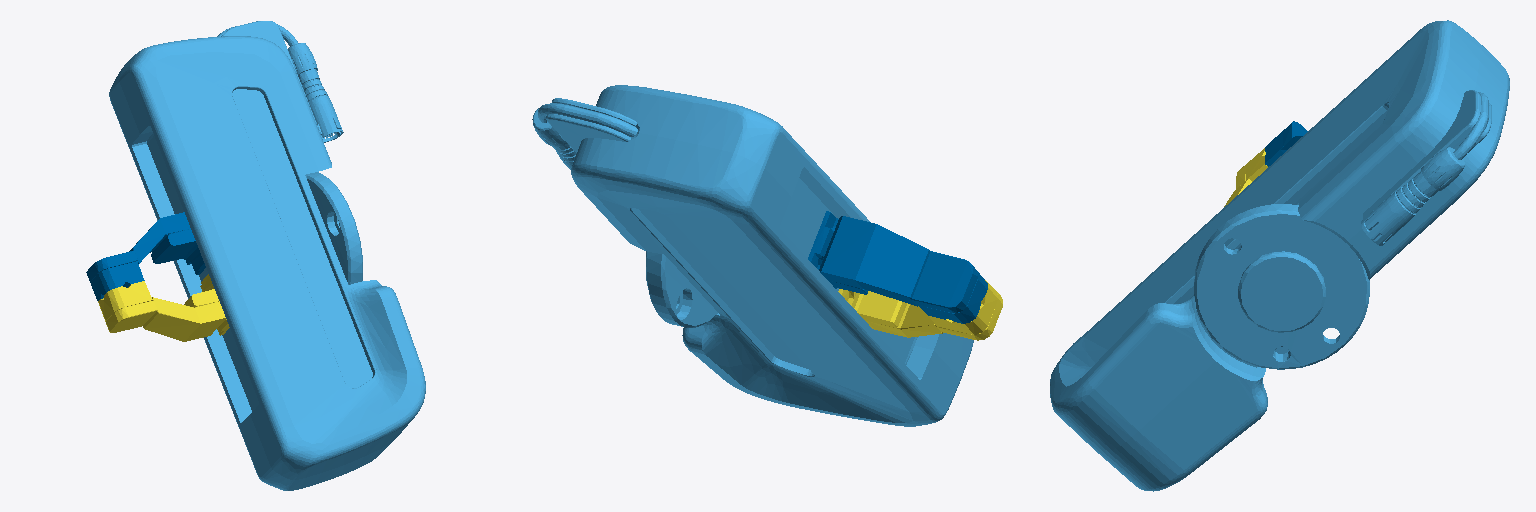
robot.urdf — panda:
<?xml version="1.0" ?>
<!-- =================================================================================== -->
<!-- |    This document was autogenerated by xacro from panda_arm.urdf.xacro           | -->
<!-- |    EDITING THIS FILE BY HAND IS NOT RECOMMENDED                                 | -->
<!-- =================================================================================== -->
<robot name="panda">
  <link name="panda_link0">
    <visual>
      <geometry>
        <mesh filename="package://mujoco_panda/meshes/visual/link0.stl"/>
      </geometry>
    </visual>
    <collision>
      <origin rpy="0 1.5707963267948966 0" xyz="-0.075 0 0.06"/>
      <geometry>
        <cylinder length="0.03" radius="0.09"/>
      </geometry>
    </collision>
    <collision>
      <origin rpy="0 0 0" xyz="-0.06 0 0.06"/>
      <geometry>
        <sphere radius="0.09"/>
      </geometry>
    </collision>
    <collision>
      <origin rpy="0 0 0" xyz="-0.09 0 0.06"/>
      <geometry>
        <sphere radius="0.09"/>
      </geometry>
    </collision>
    <inertial>
      <!-- Estimated guesses from CAD -->
      <origin rpy="0 0 0" xyz="-0.041018 -0.00014 0.049974"/>
      <mass value="0.629769"/>
      <inertia ixx="0.00315" ixy="8.2904E-07" ixz="0.00015" iyy="0.00388" iyz="8.2299E-06" izz="0.004285"/>
  </inertial>
  </link>
  <link name="panda_link1">
    <visual>
      <geometry>
        <mesh filename="package://mujoco_panda/meshes/visual/link1.stl"/>
      </geometry>
    </visual>
    <collision>
      <origin rpy="0 0 0" xyz="0 0 -0.1915"/>
      <geometry>
        <cylinder length="0.2830" radius="0.09"/>
      </geometry>
    </collision>
    <collision>
      <origin rpy="0 0 0" xyz="0 0 -0.333"/>
      <geometry>
        <sphere radius="0.09"/>
      </geometry>
    </collision>
    <collision>
      <origin rpy="0 0 0" xyz="0 0 -0.05"/>
      <geometry>
        <sphere radius="0.09"/>
      </geometry>
    </collision>
    <inertial>
      <origin rpy="0 0 0" xyz="0.003875 0.002081 -0.04762"/>
      <mass value="4.970684"/>
      <inertia ixx="0.70337" ixy="-0.00013900" ixz="0.0067720" iyy="0.70661" iyz="0.019169" izz="0.0091170"/>
  </inertial>
  </link>
  <joint name="panda_joint1" type="revolute">
    <origin rpy="0 0 0" xyz="0 0 0.333"/>
    <parent link="panda_link0"/>
    <child link="panda_link1"/>
    <axis xyz="0 0 1"/>
    <limit effort="87" lower="-2.8973" upper="2.8973" velocity="2.1750"/>
    <dynamics damping="5.0" friction="1.0" />
  </joint>
  <link name="panda_link2">
    <visual>
      <geometry>
        <mesh filename="package://mujoco_panda/meshes/visual/link2.stl"/>
      </geometry>
    </visual>
    <collision>
      <origin rpy="0 0 0" xyz="0 0 0"/>
      <geometry>
        <cylinder length="0.12" radius="0.09"/>
      </geometry>
    </collision>
    <collision>
      <origin rpy="0 0 0" xyz="0 0 -0.06"/>
      <geometry>
        <sphere radius="0.09"/>
      </geometry>
    </collision>
    <collision>
      <origin rpy="0 0 0" xyz="0 0 0.06"/>
      <geometry>
        <sphere radius="0.09"/>
      </geometry>
    </collision>
    <inertial>
      <origin rpy="0 0 0" xyz=" -0.003141 -0.02872  0.003495"/>
      <mass value="0.646926"/>
      <inertia ixx="0.0079620" ixy="-3.9250e-3" ixz="1.0254e-02" iyy="2.8110e-02" iyz="7.0400e-04" izz="2.5995e-02"/>
  </inertial>
  </link>
  <joint name="panda_joint2" type="revolute">
    <origin rpy="-1.5707963267948966 0 0" xyz="0 0 0"/>
    <parent link="panda_link1"/>
    <child link="panda_link2"/>
    <axis xyz="0 0 1"/>
    <limit effort="87" lower="-1.7628" upper="1.7628" velocity="2.1750"/>
    <dynamics damping="5.0" friction="1.0" />
  </joint>
  <link name="panda_link3">
    <visual>
      <geometry>
        <mesh filename="package://mujoco_panda/meshes/visual/link3.stl"/>
      </geometry>
    </visual>
    <collision>
      <origin rpy="0 0 0" xyz="0 0 -0.145"/>
      <geometry>
        <cylinder length="0.15" radius="0.09"/>
      </geometry>
    </collision>
    <collision>
      <origin rpy="0 0 0" xyz="0 0 -0.22"/>
      <geometry>
        <sphere radius="0.09"/>
      </geometry>
    </collision>
    <collision>
      <origin rpy="0 0 0" xyz="0 0 -0.07"/>
      <geometry>
        <sphere radius="0.09"/>
      </geometry>
    </collision>
    <inertial>
      <origin rpy="0 0 0" xyz="2.7518e-02 3.9252e-02 -6.6502e-02"/>
      <mass value="3.228604"/>
      <inertia ixx="3.7242e-02" ixy="-4.7610e-03" ixz="-1.1396e-02" iyy="3.6155e-02" iyz="-1.2805e-02" izz="1.0830e-02"/>
  </inertial>
  </link>
  <joint name="panda_joint3" type="revolute">
    <origin rpy="1.5707963267948966 0 0" xyz="0 -0.316 0"/>
    <parent link="panda_link2"/>
    <child link="panda_link3"/>
    <axis xyz="0 0 1"/>
    <limit effort="87" lower="-2.8973" upper="2.8973" velocity="2.1750"/>
    <dynamics damping="5.0" friction="1.0" />
  </joint>
  <link name="panda_link4">
    <visual>
      <geometry>
        <mesh filename="package://mujoco_panda/meshes/visual/link4.stl"/>
      </geometry>
    </visual>
    <collision>
      <origin rpy="0 0 0" xyz="0 0 0"/>
      <geometry>
        <cylinder length="0.12" radius="0.09"/>
      </geometry>
    </collision>
    <collision>
      <origin rpy="0 0 0" xyz="0 0 0.06"/>
      <geometry>
        <sphere radius="0.09"/>
      </geometry>
    </collision>
    <collision>
      <origin rpy="0 0 0" xyz="0 0 -0.06"/>
      <geometry>
        <sphere radius="0.09"/>
      </geometry>
    </collision>
    <inertial>
      <origin rpy="0 0 0" xyz="-5.317e-02 1.04419e-01 2.7454e-02"/>
      <mass value="3.587895"/>
      <inertia ixx="2.5853e-02" ixy="7.7960e-03" ixz="-1.3320e-03" iyy="1.9552e-02" iyz="8.6410e-03" izz="2.8323e-02"/>
  </inertial>
  </link>
  <joint name="panda_joint4" type="revolute">
    <origin rpy="1.5707963267948966 0 0" xyz="0.0825 0 0"/>
    <parent link="panda_link3"/>
    <child link="panda_link4"/>
    <axis xyz="0 0 1"/>
    <limit effort="87" lower="-3.0718" upper="-0.0698" velocity="2.1750"/>
    <dynamics damping="5.0" friction="1.0" />
  </joint>
  <link name="panda_link5">
    <visual>
      <geometry>
        <mesh filename="package://mujoco_panda/meshes/visual/link5.stl"/>
      </geometry>
    </visual>
    <collision>
      <origin rpy="0 0 0" xyz="0 0 -0.26"/>
      <geometry>
        <cylinder length="0.1" radius="0.09"/>
      </geometry>
    </collision>
    <collision>
      <origin rpy="0 0 0" xyz="0 0 -0.31"/>
      <geometry>
        <sphere radius="0.09"/>
      </geometry>
    </collision>
    <collision>
      <origin rpy="0 0 0" xyz="0 0 -0.21"/>
      <geometry>
        <sphere radius="0.09"/>
      </geometry>
    </collision>
    <collision>
      <origin rpy="0 0 0" xyz="0 0.08 -0.13"/>
      <geometry>
        <cylinder length="0.14" radius="0.055"/>
      </geometry>
    </collision>
    <collision>
      <origin rpy="0 0 0" xyz="0 0.08 -0.06"/>
      <geometry>
        <sphere radius="0.055"/>
      </geometry>
    </collision>
    <collision>
      <origin rpy="0 0 0" xyz="0 0.08 -0.20"/>
      <geometry>
        <sphere radius="0.055"/>
      </geometry>
    </collision>
    <inertial>
      <origin rpy="0 0 0" xyz="-1.1953e-02 4.1065e-02 -3.8437e-02"/>
      <mass value="1.225946"/>
      <inertia ixx="3.5549e-02" ixy="-2.1170e-03" ixz="-4.0370e-03" iyy="2.9474e-02" iyz="2.2900e-04" izz="8.6270e-03"/>
  </inertial>
  </link>
  <joint name="panda_joint5" type="revolute">
    <origin rpy="-1.5707963267948966 0 0" xyz="-0.0825 0.384 0"/>
    <parent link="panda_link4"/>
    <child link="panda_link5"/>
    <axis xyz="0 0 1"/>
    <limit effort="12" lower="-2.8973" upper="2.8973" velocity="2.6100"/>
    <dynamics damping="5.0" friction="1.0" />
  </joint>
  <link name="panda_link6">
    <visual>
      <geometry>
        <mesh filename="package://mujoco_panda/meshes/visual/link6.stl"/>
      </geometry>
    </visual>
    <collision>
      <origin rpy="0 0 0" xyz="0 0 -0.03"/>
      <geometry>
        <cylinder length="0.08" radius="0.08"/>
      </geometry>
    </collision>
    <collision>
      <origin rpy="0 0 0" xyz="0 0 0.01"/>
      <geometry>
        <sphere radius="0.08"/>
      </geometry>
    </collision>
    <collision>
      <origin rpy="0 0 0" xyz="0 0 -0.07"/>
      <geometry>
        <sphere radius="0.08"/>
      </geometry>
    </collision>
    <inertial>
      <origin rpy="0 0 0" xyz="6.0149e-02 -1.4117e-02 -1.0517e-02"/>
      <mass value="1.666555"/>
      <inertia ixx="1.9640e-03" ixy="1.0900e-04" ixz="-1.1580e-03" iyy="4.3540e-03" iyz="3.4100e-04" izz="5.4330e-03"/>
  </inertial>
  </link>
  <joint name="panda_joint6" type="revolute">
    <origin rpy="1.5707963267948966 0 0" xyz="0 0 0"/>
    <parent link="panda_link5"/>
    <child link="panda_link6"/>
    <axis xyz="0 0 1"/>
    <limit effort="12" lower="-0.0175" upper="3.7525" velocity="2.6100"/>
    <dynamics damping="5.0" friction="1.0" />
  </joint>
  <link name="panda_link7">
    <visual>
      <geometry>
        <mesh filename="package://mujoco_panda/meshes/visual/link7.stl"/>
      </geometry>
    </visual>
    <collision>
      <origin rpy="0 0 0" xyz="0 0 0.01"/>
      <geometry>
        <cylinder length="0.14" radius="0.07"/>
      </geometry>
    </collision>
    <collision>
      <origin rpy="0 0 0" xyz="0 0 0.08"/>
      <geometry>
        <sphere radius="0.07"/>
      </geometry>
    </collision>
    <collision>
      <origin rpy="0 0 0" xyz="0 0 -0.06"/>
      <geometry>
        <sphere radius="0.07"/>
      </geometry>
    </collision>
    <inertial>
      <origin rpy="0 0 0" xyz="1.0517e-02 -4.252e-03 6.1597e-02"/>
      <mass value="7.35522e-01"/>
      <inertia ixx="1.2516e-02" ixy="-4.2800e-04" ixz="-1.1960e-03" iyy="1.0027e-02" iyz="-7.4100e-04" izz="4.8150e-03"/>
  </inertial>
  </link>
  <joint name="panda_joint7" type="revolute">
    <origin rpy="1.5707963267948966 0 0" xyz="0.088 0 0"/>
    <parent link="panda_link6"/>
    <child link="panda_link7"/>
    <axis xyz="0 0 1"/>
    <limit effort="12" lower="-2.8973" upper="2.8973" velocity="2.6100"/>
    <dynamics damping="5.0" friction="1.0" />
  </joint>
  <link name="panda_link8">
    <collision>
      <origin rpy="3.141592653589793 1.5707963267948966 1.5707963267948966" xyz="0.0424 0.0424 -0.0250"/>
      <geometry>
        <cylinder length="0.01" radius="0.06"/>
      </geometry>
    </collision>
    <collision>
      <origin rpy="0 0 0" xyz="0.0424 0.0424 -0.02"/>
      <geometry>
        <sphere radius="0.06"/>
      </geometry>
    </collision>
    <collision>
      <origin rpy="0 0 0" xyz="0.0424 0.0424 -0.03"/>
      <geometry>
        <sphere radius="0.06"/>
      </geometry>
    </collision>
  </link>
  <joint name="panda_joint8" type="fixed">
    <origin rpy="0 0 0" xyz="0 0 0.107"/>
    <parent link="panda_link7"/>
    <child link="panda_link8"/>
  </joint>
  <joint name="panda_hand_joint" type="fixed">
    <parent link="panda_link8"/>
    <child link="panda_hand"/>
    <origin rpy="0 0 -0.7853981633974483" xyz="0 0 0"/>
  </joint>
  <link name="panda_hand">
    <visual>
      <geometry>
        <mesh filename="package://mujoco_panda/meshes/visual/hand.stl"/>
      </geometry>
    </visual>
    <collision>
      <origin rpy="0 1.5707963267948966 1.5707963267948966" xyz="0 0 0.04"/>
      <geometry>
        <cylinder length="0.1" radius="0.07"/>
      </geometry>
    </collision>
    <collision>
      <origin rpy="0 0 0" xyz="0 -0.05 0.04"/>
      <geometry>
        <sphere radius="0.07"/>
      </geometry>
    </collision>
    <collision>
      <origin rpy="0 0 0" xyz="0 0.05 0.04"/>
      <geometry>
        <sphere radius="0.07"/>
      </geometry>
    </collision>
    <collision>
      <origin rpy="0 1.5707963267948966 1.5707963267948966" xyz="0 0 0.1"/>
      <geometry>
        <cylinder length="0.1" radius="0.05"/>
      </geometry>
    </collision>
    <collision>
      <origin rpy="0 0 0" xyz="0 -0.05 0.1"/>
      <geometry>
        <sphere radius="0.05"/>
      </geometry>
    </collision>
    <collision>
      <origin rpy="0 0 0" xyz="0 0.05 0.1"/>
      <geometry>
        <sphere radius="0.05"/>
      </geometry>
    </collision>
    <inertial>
      <mass value="0.73"/>
      <origin xyz="-0.01 0 0.03"/>
      <inertia ixx="0.001" ixy="0" ixz="0" iyy="0.0025" iyz="0" izz="0.0017"/>
  </inertial>
  </link>
  <!-- Define the hand_tcp frame -->
  <link name="panda_hand_tcp"/>
  <joint name="panda_hand_tcp_joint" type="fixed">
    <origin rpy="0 0 0" xyz="0 0 0.1034"/>
    <parent link="panda_hand"/>
    <child link="panda_hand_tcp"/>
  </joint>
  <link name="panda_leftfinger">
    <visual>
      <geometry>
        <mesh filename="package://mujoco_panda/meshes/visual/finger.stl"/>
      </geometry>
    </visual>
    <inertial>
      <mass value="0.015"/>
      <inertia ixx="2.375e-06" ixy="0" ixz="0" iyy="2.375e-06" iyz="0" izz="7.5e-07"/>
  </inertial>
  </link>
  <link name="panda_rightfinger">
    <visual>
      <origin rpy="0 0 3.141592653589793" xyz="0 0 0"/>
      <geometry>
        <mesh filename="package://mujoco_panda/meshes/visual/finger.stl"/>
      </geometry>
    </visual>
    <inertial>
      <mass value="0.015"/>
      <inertia ixx="2.375e-06" ixy="0" ixz="0" iyy="2.375e-06" iyz="0" izz="7.5e-07"/>
    </inertial>
  </link>
  <joint name="panda_finger_joint1" type="prismatic">
    <parent link="panda_hand"/>
    <child link="panda_leftfinger"/>
    <origin rpy="0 0 0" xyz="0 0 0.0584"/>
    <axis xyz="0 1 0"/>
    <limit effort="20" lower="0.0" upper="0.04" velocity="0.2"/>
    <dynamics damping="5.0" friction="1.0" />
  </joint>
  <joint name="panda_finger_joint2" type="prismatic">
    <parent link="panda_hand"/>
    <child link="panda_rightfinger"/>
    <origin rpy="0 0 0" xyz="0 0 0.0584"/>
    <axis xyz="0 -1 0"/>
    <limit effort="20" lower="0.0" upper="0.04" velocity="0.2"/>
    <dynamics damping="5.0" friction="1.0" />
  </joint>
</robot>

--- Facts derived from the render (not from the file) ---
3 views of the same robot in one strip: view 1: azimuth 30°, elevation 25°; view 2: azimuth 150°, elevation 25°; view 3: azimuth 270°, elevation 25° (orthographic).
Robot: panda — 13 links, 12 joints (7 revolute, 2 prismatic, 3 fixed); root link panda_link0; default pose: all joints at 0 but 1 set to mid-range because 0 is outside their limits (panda_joint4 = -1.57).
Links seen in each view (by area): view 1: panda_hand, panda_leftfinger, panda_rightfinger; view 2: panda_hand, panda_rightfinger, panda_leftfinger; view 3: panda_hand, panda_rightfinger, panda_leftfinger.
Link boxes in pixels (x1,y1,x2,y2): panda_hand: [109, 21, 425, 490]; panda_leftfinger: [98, 274, 229, 341]; panda_rightfinger: [86, 212, 205, 300]; panda_hand: [532, 85, 973, 426]; panda_rightfinger: [808, 211, 987, 323]; panda_leftfinger: [838, 280, 1002, 340]; panda_hand: [1050, 20, 1509, 491]; panda_rightfinger: [1265, 121, 1307, 166]; panda_leftfinger: [1224, 148, 1267, 206].
Bounding box of the posed robot: 0.1382 × 0.1649 × 0.1649 m (x, y, z).
3 mesh visuals loaded from 10 distinct referenced files (2 binary STL); not drawn: 8 (reference not matched to a file when rendering).